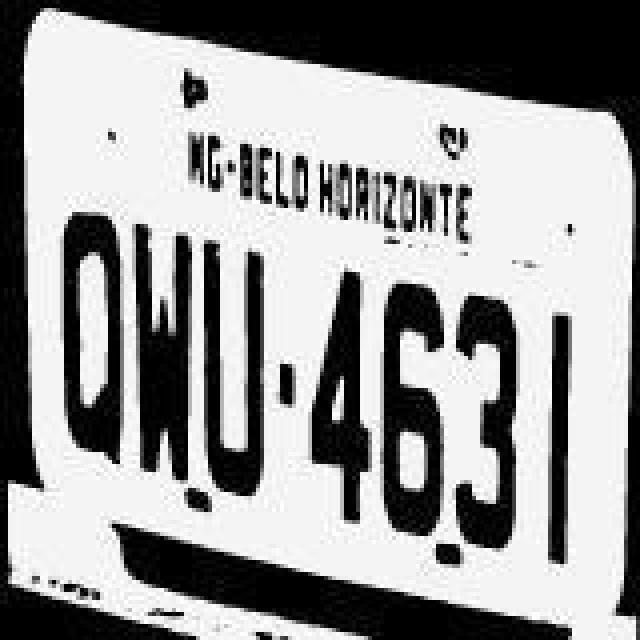1: (534, 290, 594, 582)
3: (448, 290, 528, 558)
4: (304, 264, 376, 528)
6: (374, 272, 450, 544)
Q: (58, 200, 126, 480)
U: (202, 236, 270, 500)
W: (128, 202, 192, 486)
